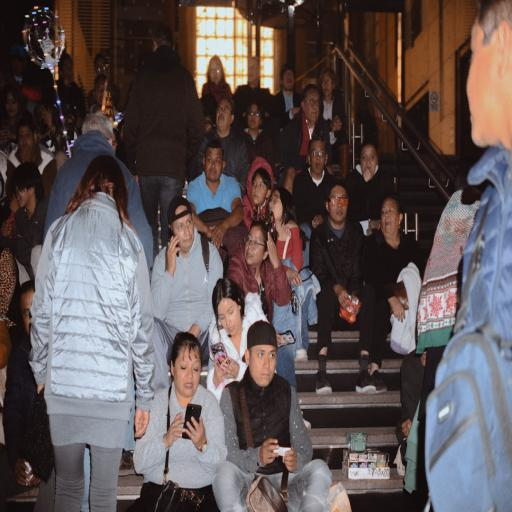face: (252, 344, 275, 383), (177, 354, 198, 394), (218, 304, 239, 336), (204, 150, 224, 182), (327, 193, 349, 222), (176, 215, 194, 250), (244, 230, 262, 264), (382, 204, 398, 240), (310, 142, 325, 175), (250, 176, 266, 206), (361, 150, 377, 178), (306, 92, 320, 122), (217, 102, 231, 129), (18, 129, 33, 154), (248, 106, 262, 130), (13, 182, 26, 206), (208, 62, 221, 84), (4, 96, 16, 116), (248, 61, 258, 84), (284, 69, 295, 89), (322, 76, 332, 97)
